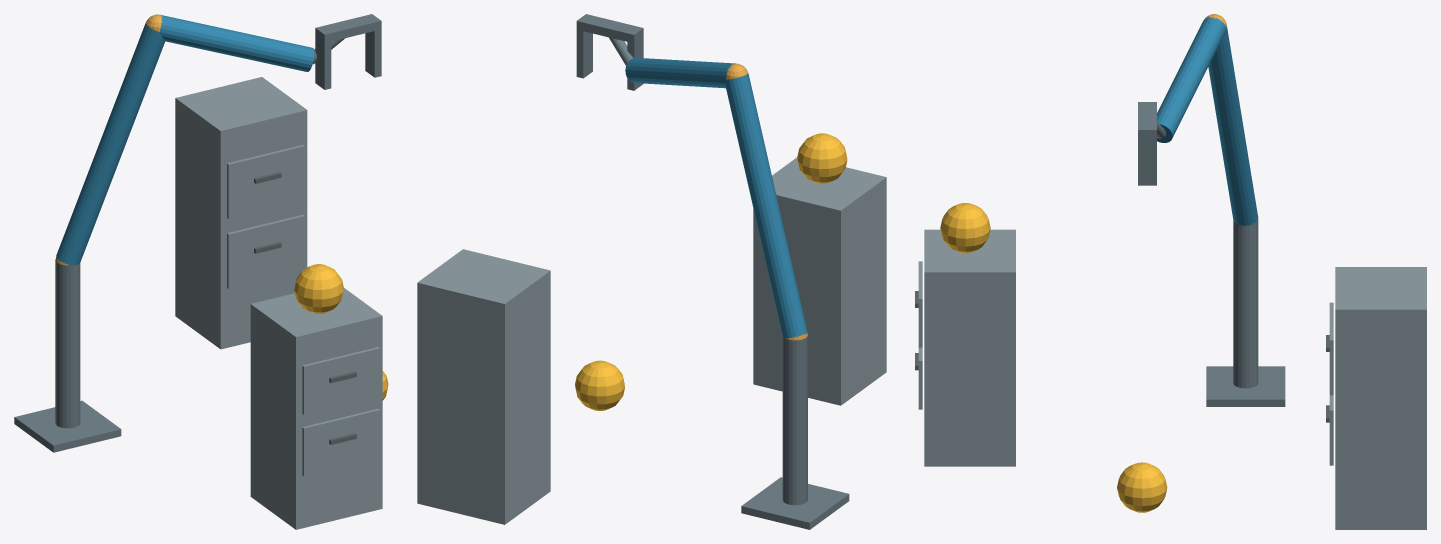
3 views of the same model, side by side, from view 1: azimuth 30°, elevation 25°; view 2: azimuth 150°, elevation 25°; view 3: azimuth 270°, elevation 25° (orthographic).
Parts seen in each view (by area): view 1: cabinet_2 body, cabinet_1 body, moving link 1, cabinet_2 drawer front.001, cabinet_2 drawer front, fixed post, moving link 2, cabinet_1 drawer front, cabinet_1 drawer front.001, pedestal, released ball_1, gripper bridge (+2 smaller); view 2: cabinet_2 body, cabinet_1 body, moving link 1, fixed post, pedestal, moving link 2, released ball_1, ball ball_2, gripper bridge, gripper finger 1; view 3: cabinet_2 body, cabinet_1 body, moving link 1, fixed post, moving link 2, pedestal, ball ball_2, released ball_1, gripper finger 1, gripper bridge.
Part boxes in pixels (bbox=[...]): cabinet_2 body: bbox=[175, 77, 307, 349]; cabinet_1 body: bbox=[250, 288, 382, 529]; moving link 1: bbox=[56, 22, 165, 265]; cabinet_2 drawer front.001: bbox=[227, 145, 304, 218]; cabinet_2 drawer front: bbox=[227, 214, 304, 288]; fixed post: bbox=[55, 259, 80, 428]; moving link 2: bbox=[159, 15, 314, 71]; cabinet_1 drawer front: bbox=[302, 408, 380, 476]; cabinet_1 drawer front.001: bbox=[302, 347, 380, 414]; pedestal: bbox=[14, 400, 121, 452]; released ball_1: bbox=[294, 264, 343, 313]; gripper bridge: bbox=[315, 14, 381, 42]; cabinet_2 body: bbox=[417, 249, 550, 524]; cabinet_1 body: bbox=[753, 157, 886, 405]; moving link 1: bbox=[725, 73, 807, 338]; fixed post: bbox=[782, 334, 807, 505]; pedestal: bbox=[741, 477, 849, 529]; moving link 2: bbox=[625, 57, 735, 88]; released ball_1: bbox=[797, 133, 847, 183]; ball ball_2: bbox=[575, 360, 624, 410]; gripper bridge: bbox=[576, 14, 643, 43]; gripper finger 1: bbox=[576, 29, 592, 78]; cabinet_2 body: bbox=[1335, 267, 1426, 529]; cabinet_1 body: bbox=[924, 229, 1015, 466]; moving link 1: bbox=[1208, 25, 1258, 225]; fixed post: bbox=[1233, 219, 1258, 388]; moving link 2: bbox=[1157, 17, 1226, 142]; pedestal: bbox=[1206, 366, 1285, 406]; ball ball_2: bbox=[1117, 462, 1167, 512]; released ball_1: bbox=[940, 203, 990, 253]; gripper finger 1: bbox=[1138, 138, 1156, 185]; gripper bridge: bbox=[1138, 102, 1156, 138].
Size of the model in its own units: 1.17 by 1.44 by 1.62.
